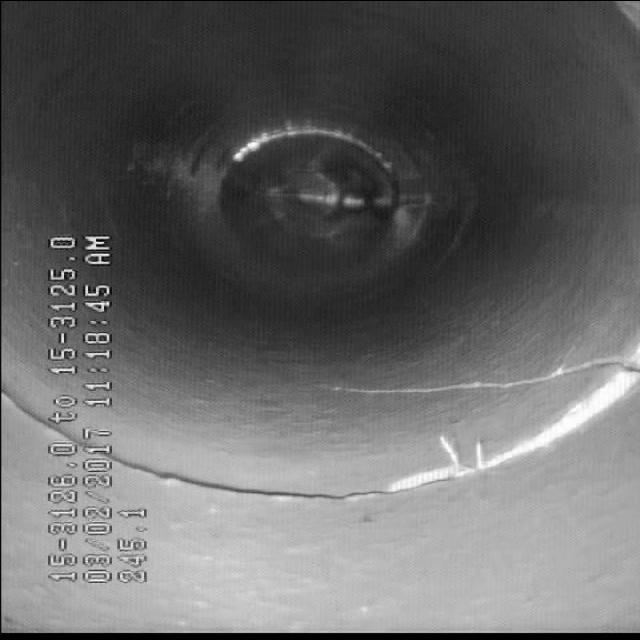Crack: (305, 323, 639, 438)
